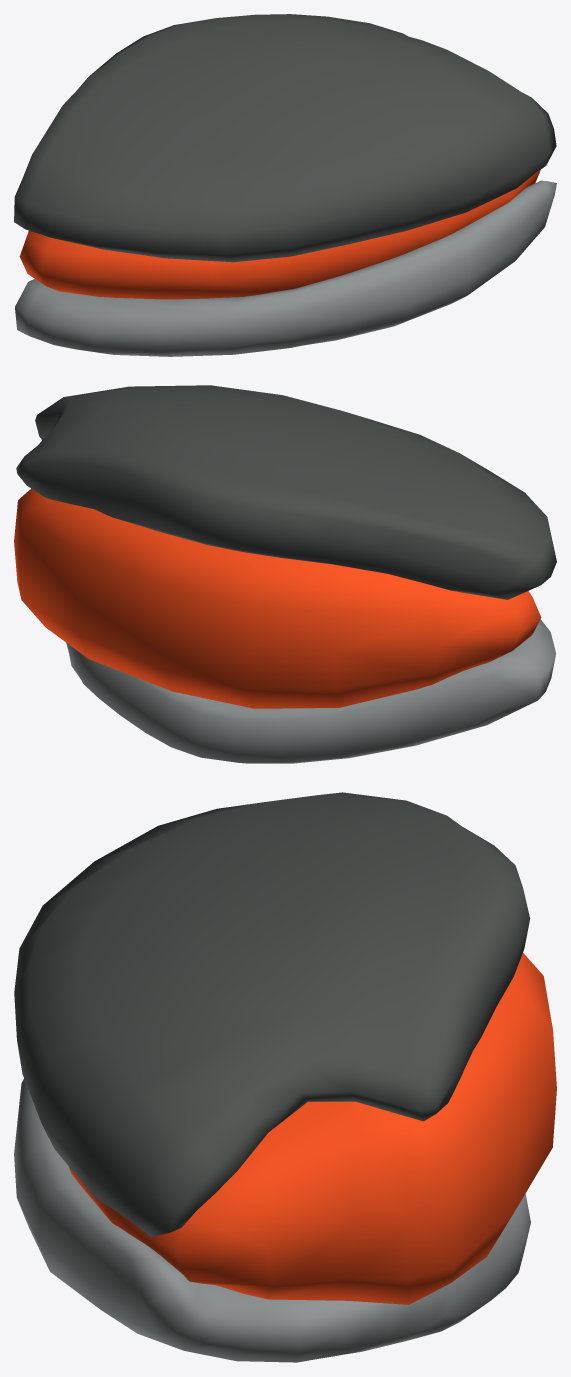
The model's file is xsens_LeftCarpus.dae.
3 views of the same model, one above another, from view 1: azimuth 30°, elevation 25°; view 2: azimuth 150°, elevation 25°; view 3: azimuth 270°, elevation 25° (orthographic). The views are drawn at different scales.
Visible parts, largest first — view 1: LeftCarpus; view 2: LeftCarpus; view 3: LeftCarpus.
Boxes of the visible parts, x1,y1,x2,y2 form: LeftCarpus: [14, 14, 556, 356]; LeftCarpus: [14, 385, 556, 763]; LeftCarpus: [14, 792, 556, 1362].
Bounding box in the file's own units: 0.0695 × 0.043 × 0.0343.
